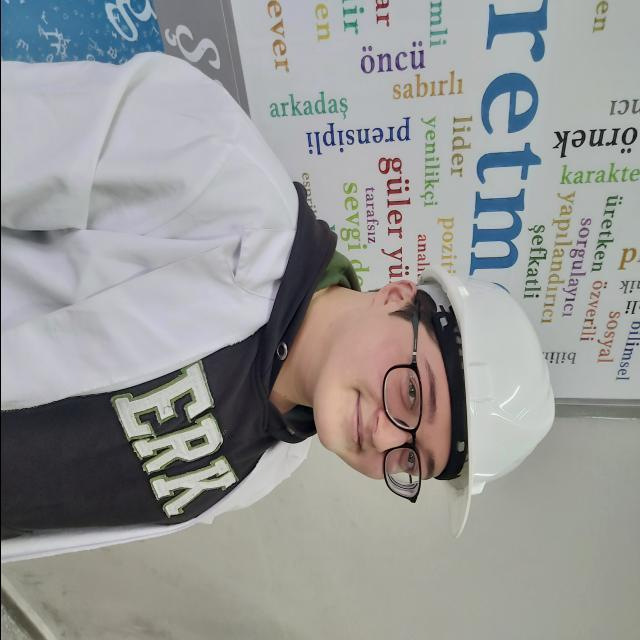helmet: (421, 269, 555, 536)
